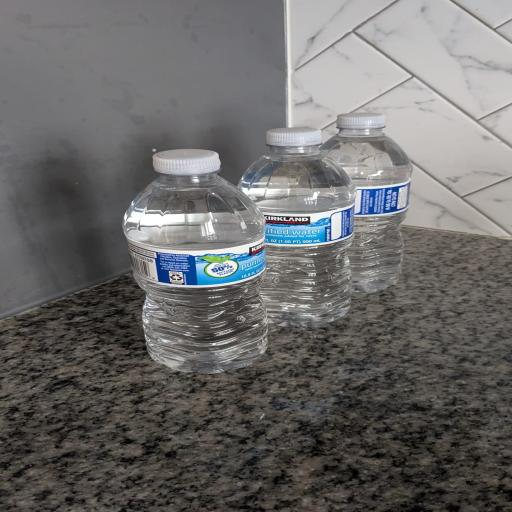waterbottle: (124, 150, 267, 373), (239, 128, 355, 326), (322, 113, 411, 292)
